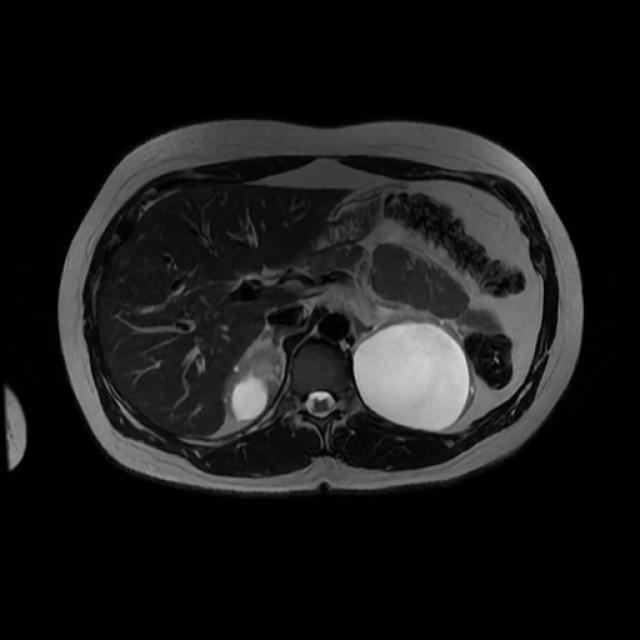sag: (223, 337, 284, 421)
sol: (350, 313, 477, 432)
